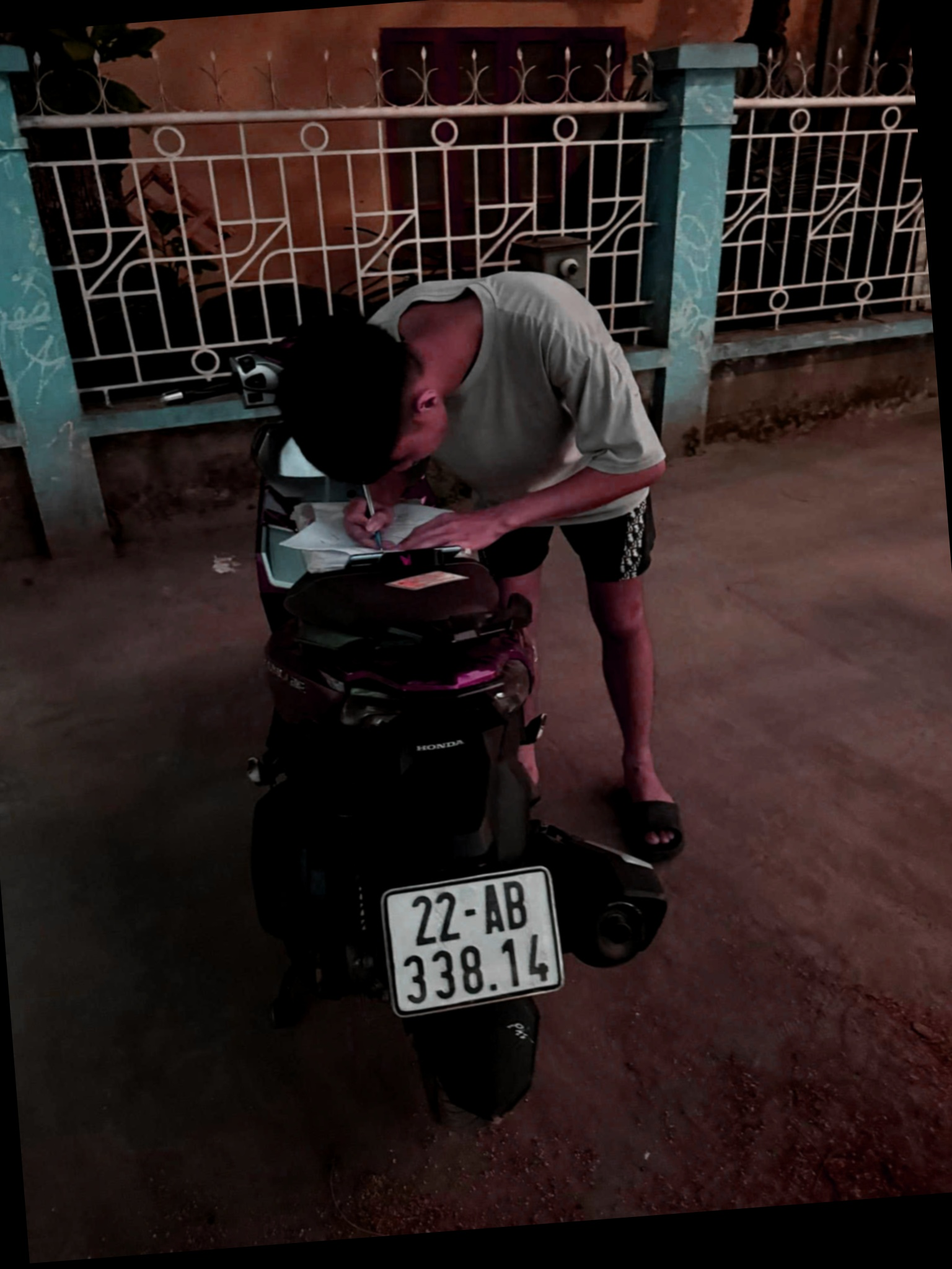Bien-so: (387, 903, 571, 1050)
